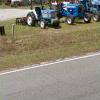Tractor: (18, 2, 86, 31)
